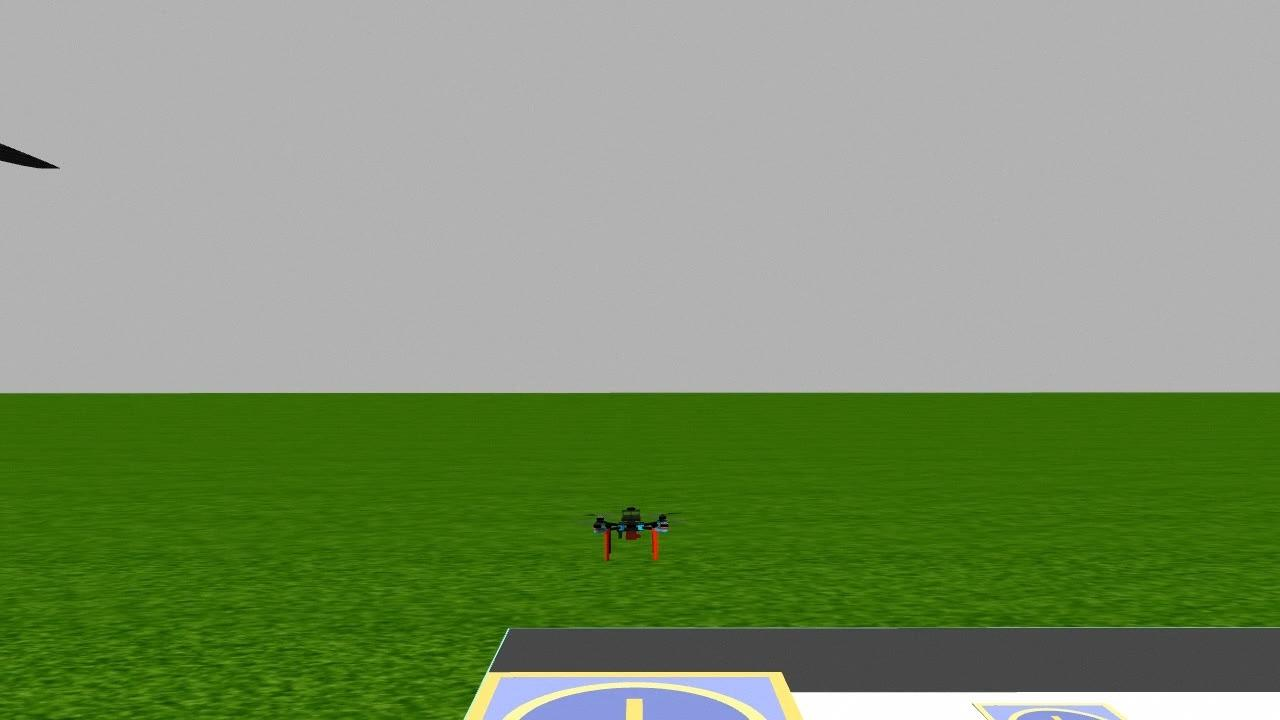UAV: (569, 496, 692, 567)
